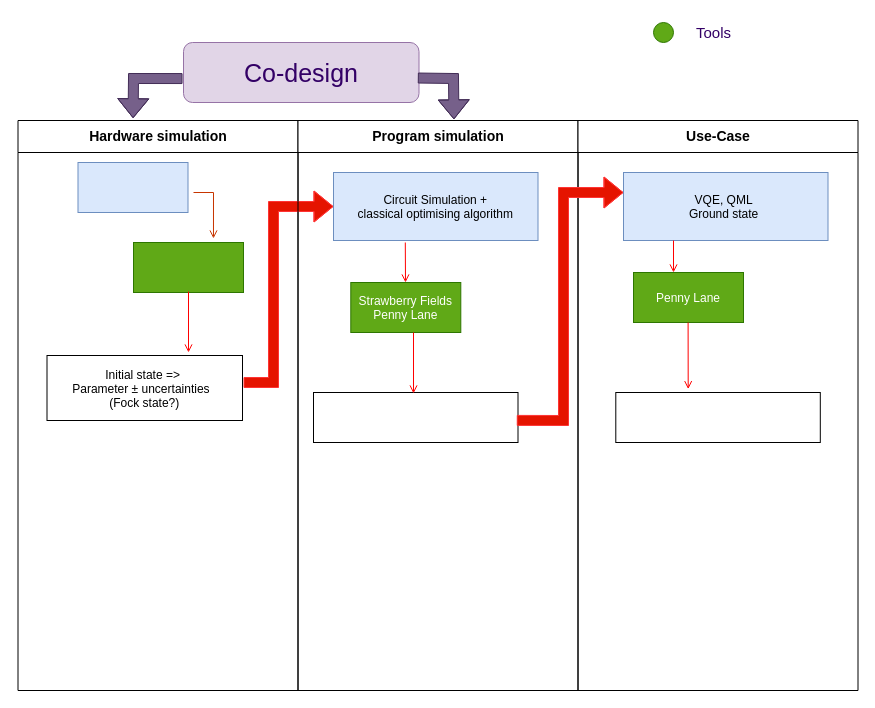
This 875x708 diagram has some shape labels left out. The box of each missing label's shape, as (x1, y1, x2, y2) in pixels:
Optimised state ± uncertainties: (615, 392, 820, 442)
Photon emitter: (77, 162, 188, 212)
Resulting state ± uncertainties: (312, 392, 518, 442)
Symphony Qutip: (132, 242, 244, 292)
